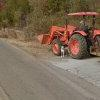Tractor: (37, 10, 100, 65)
